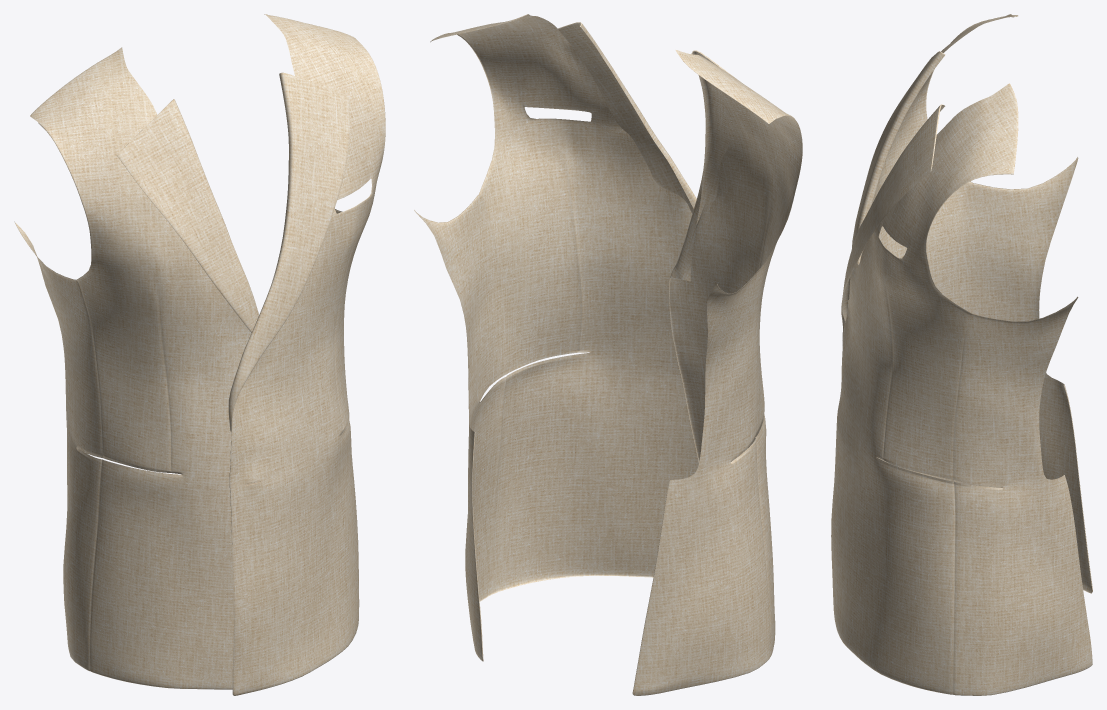
File: noch_double_breasted.glb
The picture shows the model from 3 angles, left to right: view 1: azimuth 30°, elevation 25°; view 2: azimuth 150°, elevation 25°; view 3: azimuth 270°, elevation 25°; orthographic projection. The views are drawn at different scales.
Visible parts, largest first — view 1: noch_double_breasted; view 2: noch_double_breasted; view 3: noch_double_breasted.
Boxes of the visible parts, x1,y1,x2,y2 form: noch_double_breasted: (14, 14, 385, 695); noch_double_breasted: (414, 14, 802, 695); noch_double_breasted: (831, 14, 1092, 695).
Bounding box in the file's own units: 0.0585 × 0.1017 × 0.0414.
Materials: 2 (1 with a texture image).
